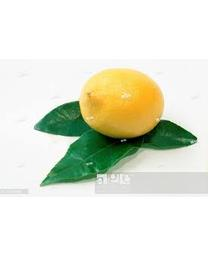lemon: (81, 70, 165, 138)
